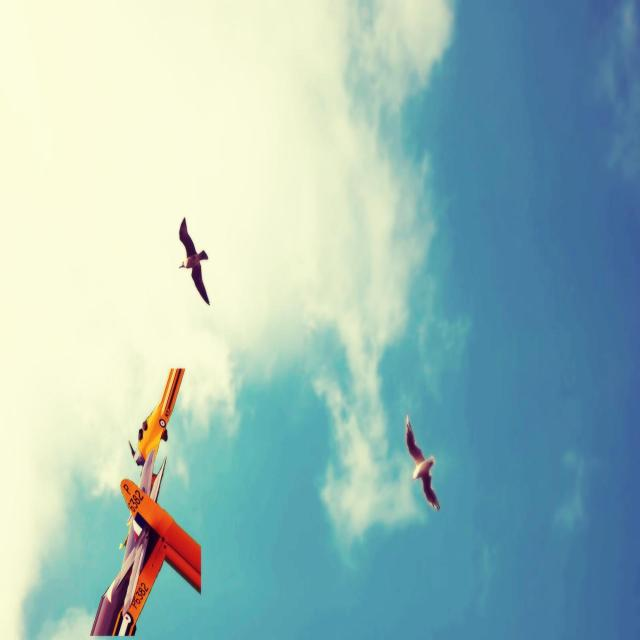airplane: (90, 366, 202, 636)
